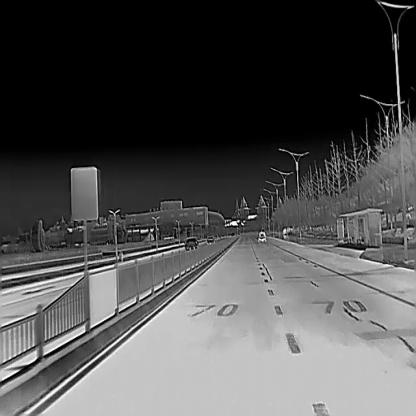car: (184, 238, 198, 250), (256, 229, 267, 242), (206, 234, 214, 243)
